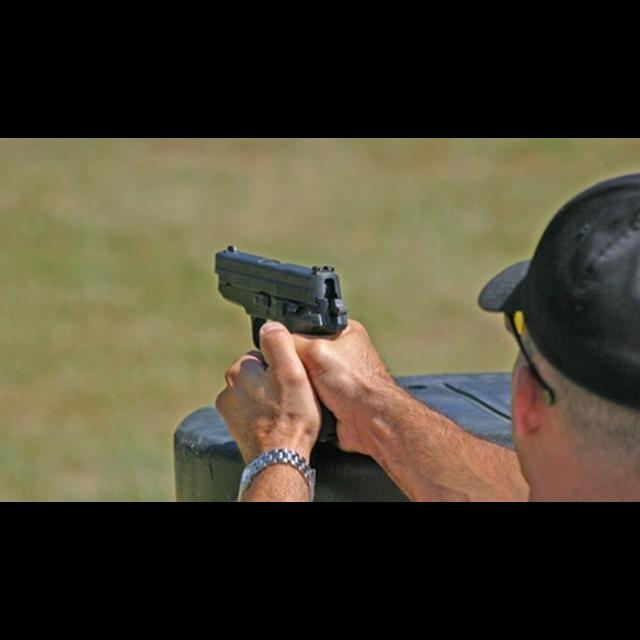handgun: (212, 242, 351, 356)
